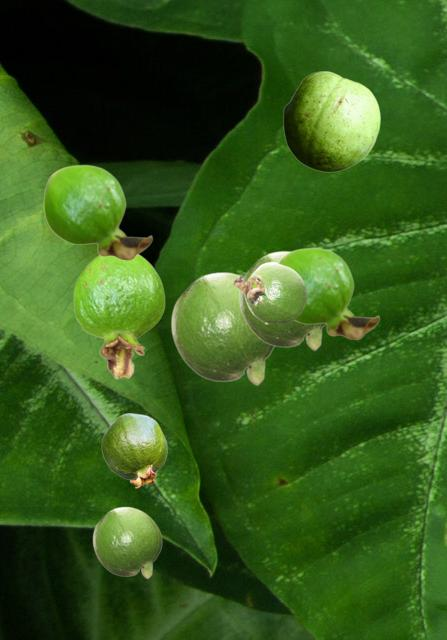guava: (170, 271, 275, 385), (73, 254, 164, 378), (43, 164, 152, 260), (283, 71, 379, 171), (278, 247, 379, 339), (238, 250, 324, 350), (92, 506, 161, 578), (101, 413, 166, 487), (233, 261, 306, 323)
